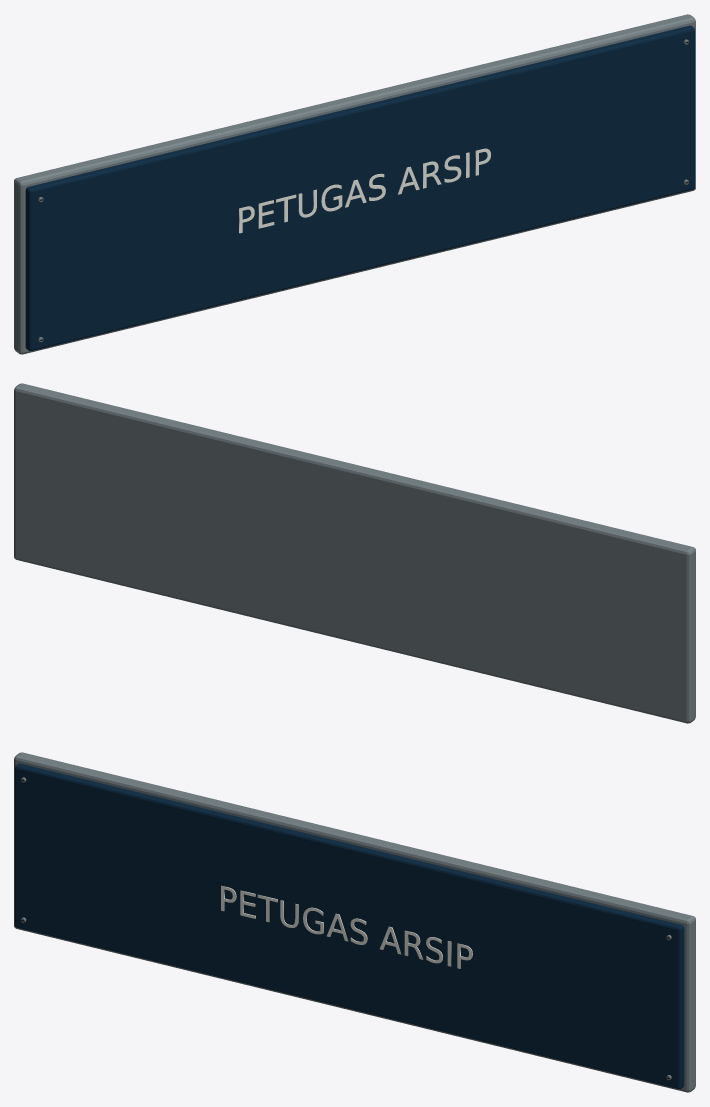
The model's file is OAA_Papan_Ruang_Petugas_Arsip.fbx.
3 views of the same model, one above another, from view 1: azimuth 30°, elevation 25°; view 2: azimuth 150°, elevation 25°; view 3: azimuth 330°, elevation 25° (orthographic).
Parts seen in each view (by area): view 1: Body; view 2: Body; view 3: Body.
Boxes of the visible parts, x1,y1,x2,y2 form: Body: (14,14,695,354); Body: (14,383,695,723); Body: (14,752,695,1092).
Size of the model in its own units: 0.9 by 0.22 by 0.0312.
